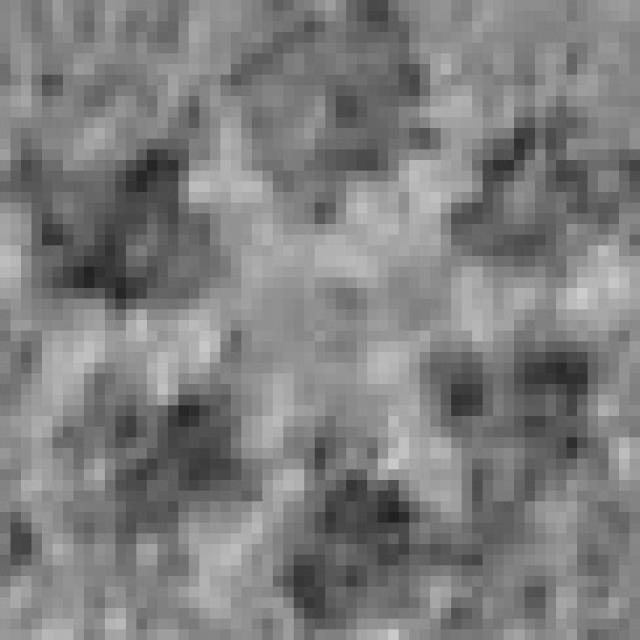inner: (212, 238, 444, 440)
lobe: (214, 2, 453, 239), (46, 359, 278, 579), (252, 418, 468, 634), (0, 125, 223, 324), (422, 320, 608, 543), (444, 97, 625, 291)
outer: (0, 0, 640, 640)
